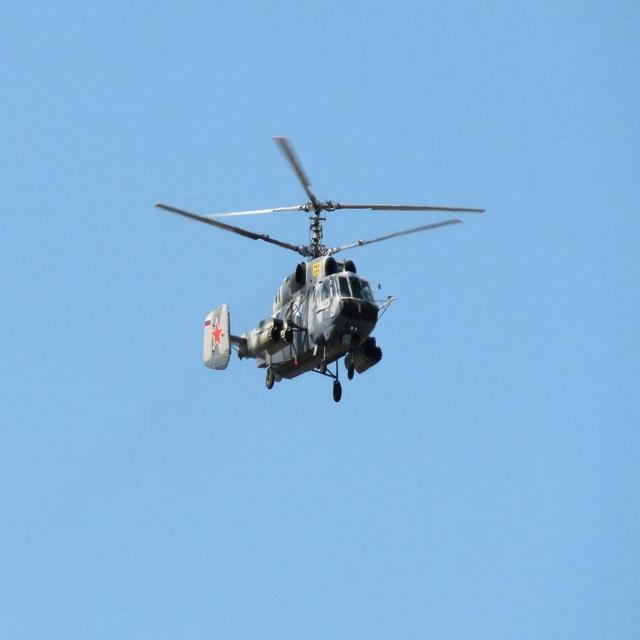MIL_HELO: (131, 124, 502, 412)
